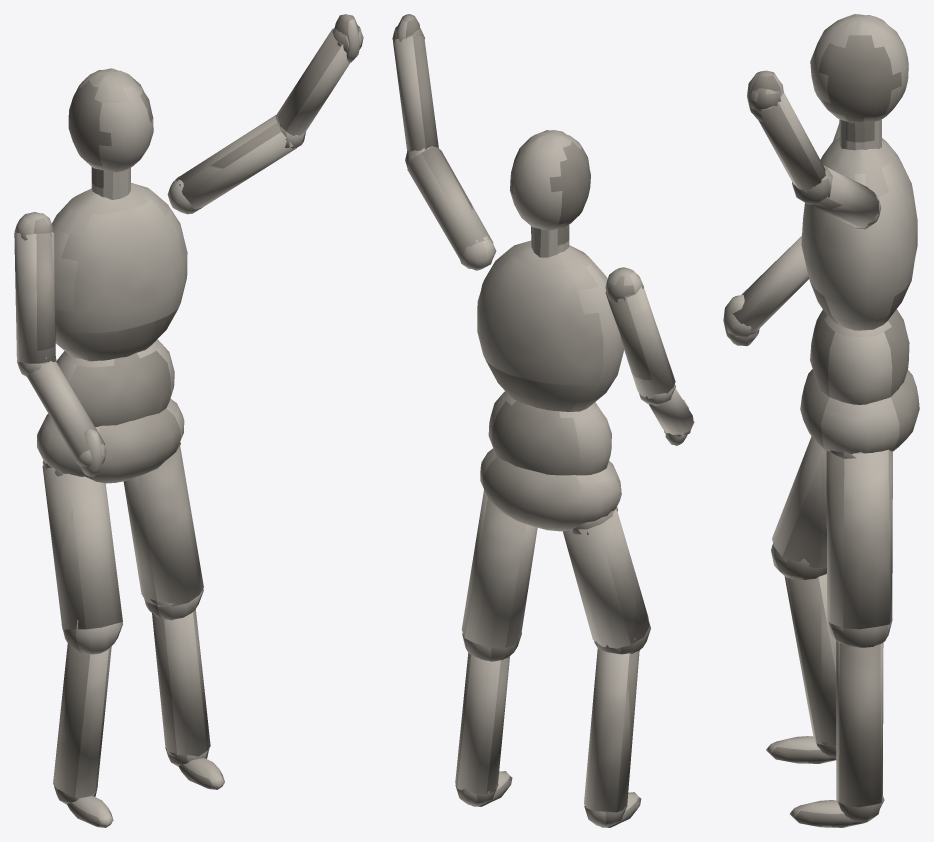
Rendered from M03_mannequin_v3.glb.
3 renders of one model, left to right at view 1: azimuth 30°, elevation 25°; view 2: azimuth 150°, elevation 25°; view 3: azimuth 270°, elevation 25°, orthographic. The views are drawn at different scales.
Visible parts, largest first — view 1: M03_mannequin_v3; view 2: M03_mannequin_v3; view 3: M03_mannequin_v3.
Boxes of the visible parts, x1,y1,x2,y2 form: M03_mannequin_v3: (14,14,363,827); M03_mannequin_v3: (392,14,694,827); M03_mannequin_v3: (723,14,919,827).
Bounding box in the file's own units: 0.7794 × 1.8 × 0.3936.
Materials: 1 (1 with a texture image).
